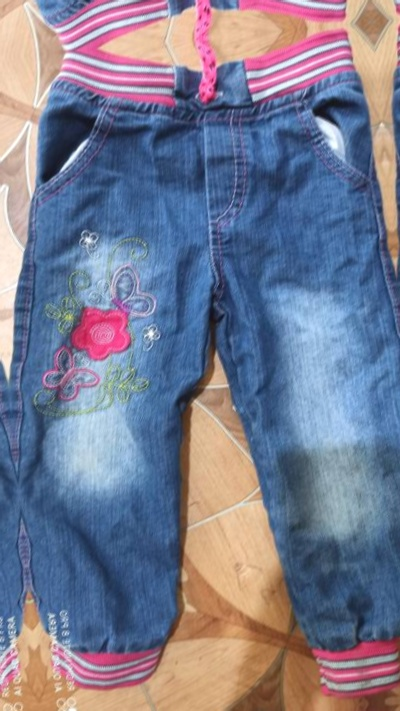Pants: (0, 30, 400, 663), (0, 0, 369, 51), (0, 68, 26, 702), (375, 0, 400, 625), (316, 0, 400, 14)
